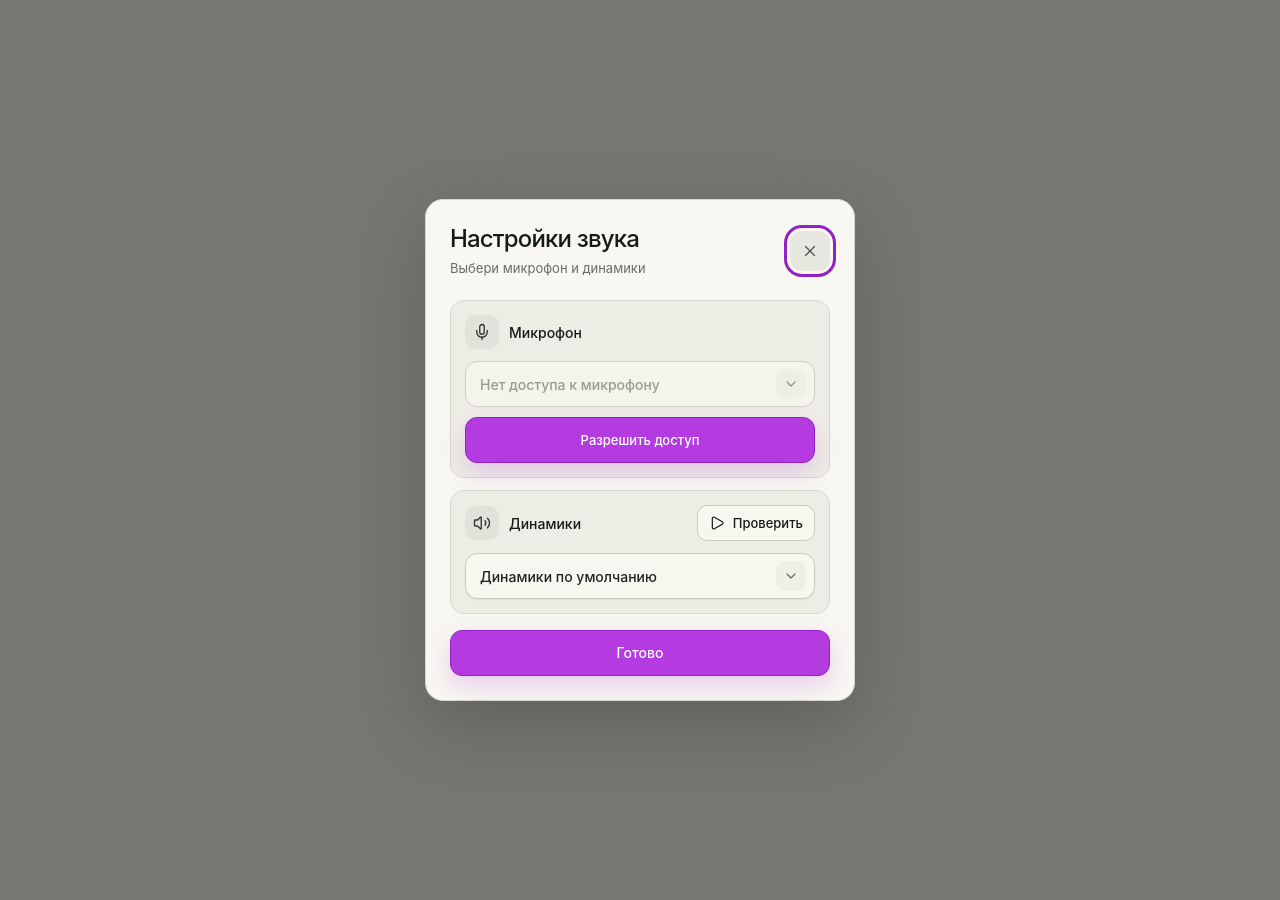
Test: audio settings › stops a permission stream that arrives after the dialog was closed
The image size is (1280, 900).
Click the button "Разрешить доступ" at (640, 440), box [465, 417, 815, 463]
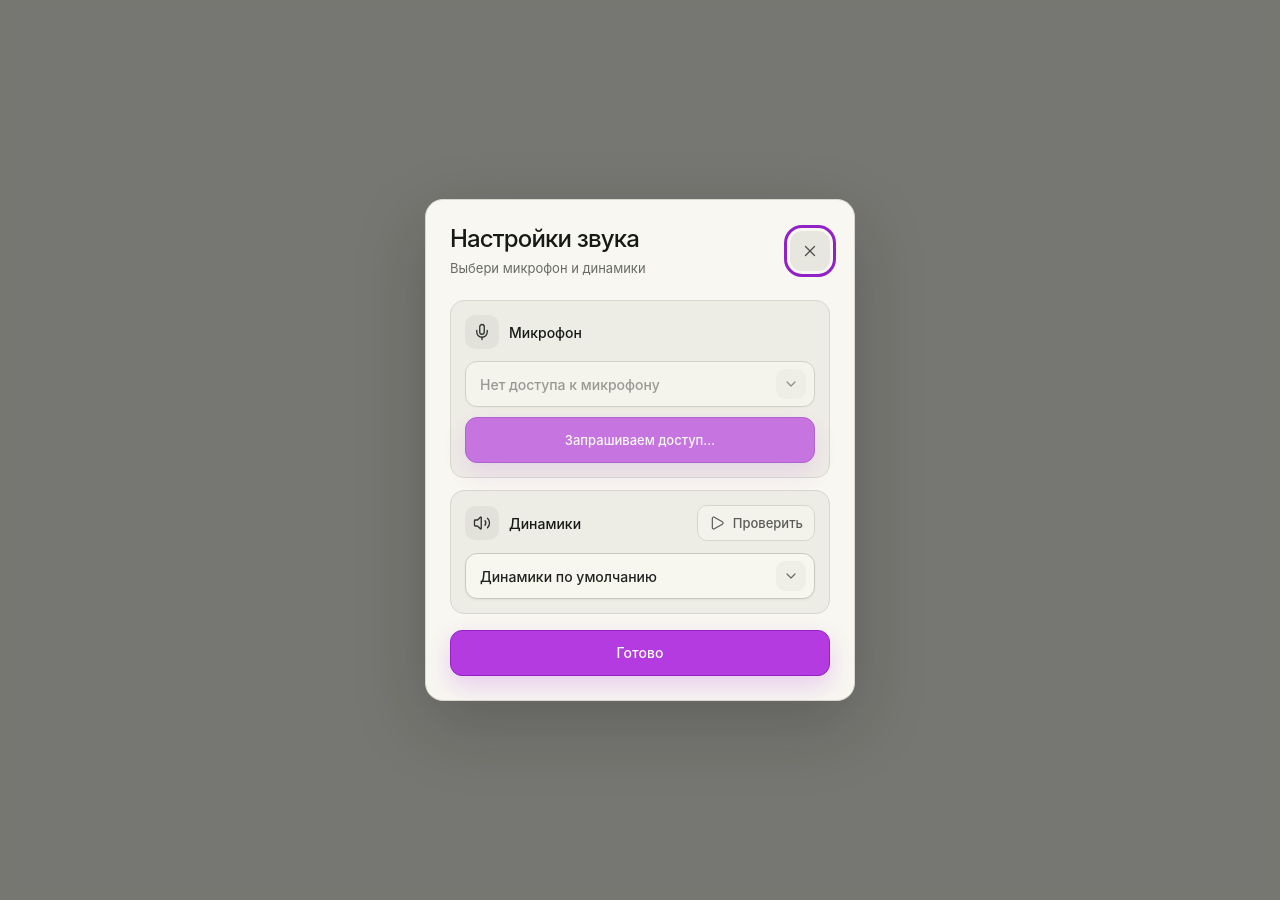
Expected: the dropdown named "Выбрать микрофон" reads "Нет доступа к микрофону", [465, 361, 815, 407]
Expected: the button "Запрашиваем доступ…" is disabled, [465, 417, 815, 463]
